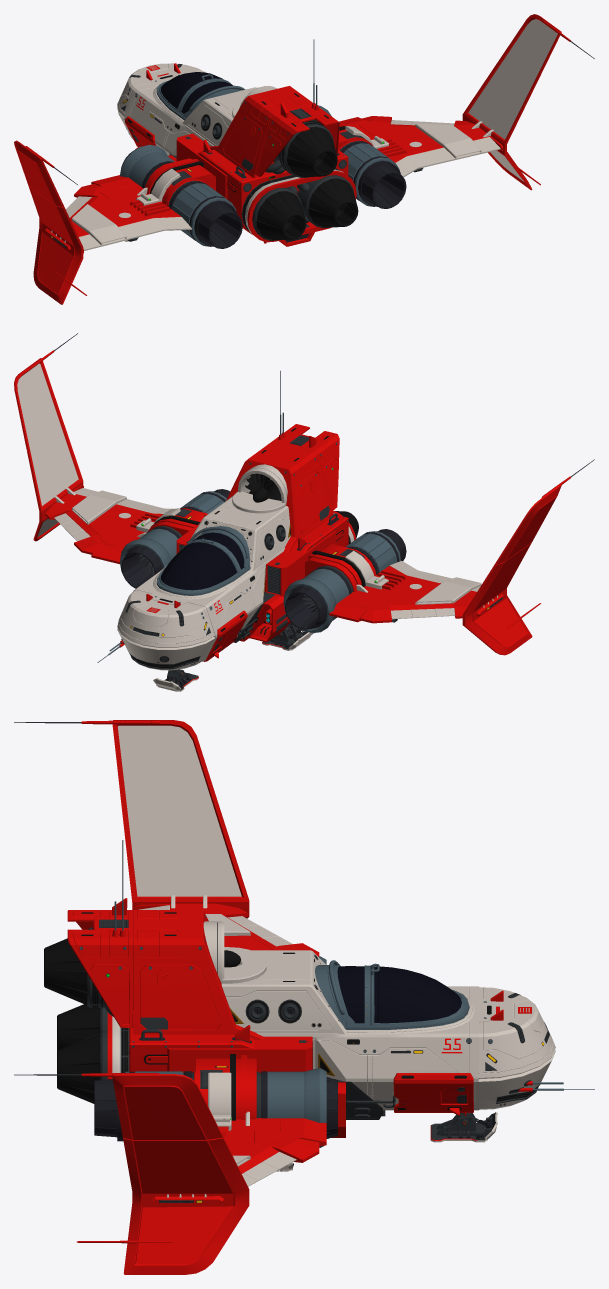
The model's file is naveBlanca.obj.
3 renders of one model, top to bottom at view 1: azimuth 30°, elevation 25°; view 2: azimuth 150°, elevation 25°; view 3: azimuth 270°, elevation 25°, orthographic. The views are drawn at different scales.
Visible parts, largest first — view 1: Radian_pillar_BC1_special_red, Radian_pillar_BC1_blanco_especial, Radian_pillar_BC1_metalic_dark, Radian_pillar_BC1_metal_neutro, motor3_metal_frio, motor4_metal_frio, Radian_pillar_BC1_metal_alumi, motor3_metal_alumi, motor4_metal_alumi, open02_vidrio, open01_metal_alumi, open01_vidrio; view 2: Radian_pillar_BC1_special_red, Radian_pillar_BC1_blanco_especial, Radian_pillar_BC1_metal_alumi, Radian_pillar_BC1_metal_neutro, open02_vidrio, motor3_metal_frio, Radian_pillar_BC1_metalic_dark, motor4_metal_frio, motor3_metal_alumi, toma_metalic_dark, open01_metal_alumi, Radian_pillar_BC1_metal_frio (+2 smaller); view 3: Radian_pillar_BC1_special_red, Radian_pillar_BC1_blanco_especial, Radian_pillar_BC1_metalic_dark, Radian_pillar_BC1_metal_neutro, Radian_pillar_BC1_metal_alumi, open02_vidrio, motor4_metal_frio, open01_vidrio, open01_metal_alumi, Radian_pillar_BC1_metal_frio.
Boxes of the visible parts, box(x1,y1,x2,y2) form: Radian_pillar_BC1_special_red: box(14, 14, 570, 304); Radian_pillar_BC1_blanco_especial: box(51, 19, 557, 250); Radian_pillar_BC1_metalic_dark: box(55, 64, 358, 244); Radian_pillar_BC1_metal_neutro: box(53, 40, 594, 247); motor3_metal_frio: box(122, 153, 242, 248); motor4_metal_frio: box(340, 141, 406, 208); Radian_pillar_BC1_metal_alumi: box(120, 39, 344, 186); motor3_metal_alumi: box(172, 183, 236, 246); motor4_metal_alumi: box(343, 143, 399, 206); open02_vidrio: box(161, 72, 222, 108); open01_metal_alumi: box(178, 79, 245, 117); open01_vidrio: box(181, 81, 232, 113); Radian_pillar_BC1_special_red: box(14, 350, 571, 687); Radian_pillar_BC1_blanco_especial: box(17, 363, 498, 691); Radian_pillar_BC1_metal_alumi: box(97, 370, 349, 687); Radian_pillar_BC1_metal_neutro: box(54, 333, 594, 689); open02_vidrio: box(161, 542, 236, 590); motor3_metal_frio: box(285, 529, 406, 629); Radian_pillar_BC1_metalic_dark: box(127, 428, 502, 688); motor4_metal_frio: box(121, 489, 230, 588); motor3_metal_alumi: box(345, 531, 400, 572); toma_metalic_dark: box(245, 473, 281, 502); open01_metal_alumi: box(189, 526, 248, 572); Radian_pillar_BC1_metal_frio: box(130, 516, 488, 687); Radian_pillar_BC1_special_red: box(67, 720, 532, 1274); Radian_pillar_BC1_blanco_especial: box(106, 725, 555, 1197); Radian_pillar_BC1_metalic_dark: box(44, 912, 548, 1202); Radian_pillar_BC1_metal_neutro: box(14, 722, 549, 1202); Radian_pillar_BC1_metal_alumi: box(80, 840, 594, 1147); open02_vidrio: box(374, 966, 461, 1023); motor4_metal_frio: box(94, 1071, 337, 1141); open01_vidrio: box(337, 966, 364, 1023); open01_metal_alumi: box(327, 960, 370, 1026); Radian_pillar_BC1_metal_frio: box(139, 1009, 544, 1202).
Bounding box in the file's own units: 16.6 × 6.66 × 11.47.
